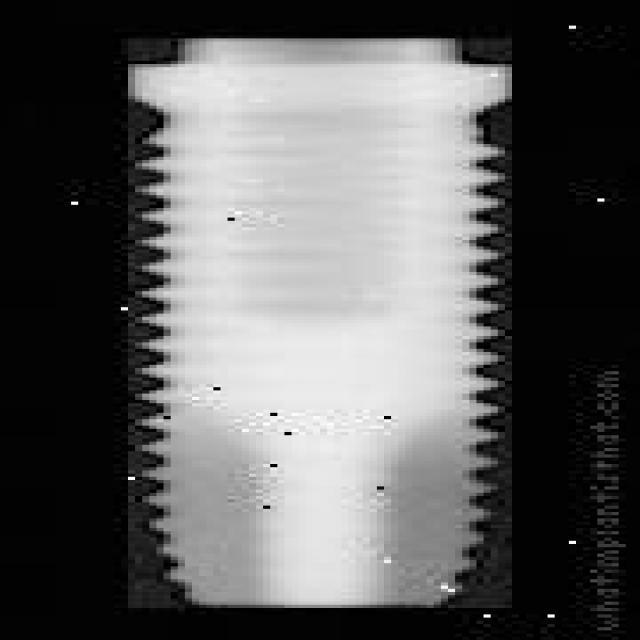Retained root: (128, 38, 512, 608)
